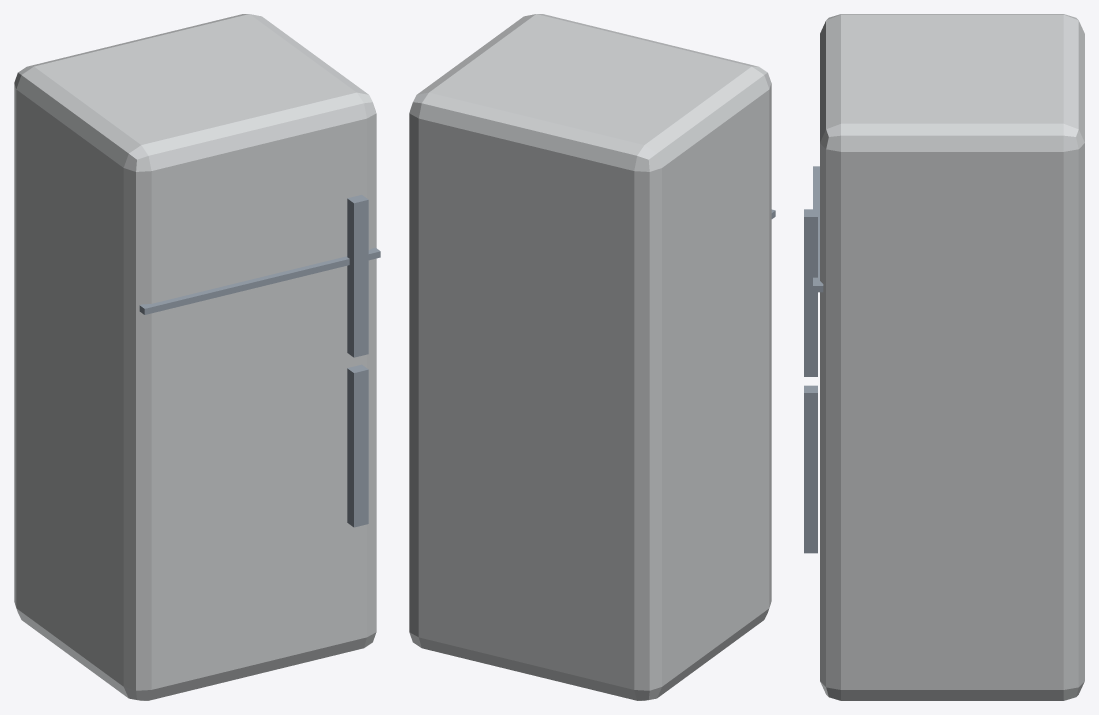
File: Kitchen_Fridge.fbx
The picture shows the model from 3 angles, left to right: view 1: azimuth 30°, elevation 25°; view 2: azimuth 150°, elevation 25°; view 3: azimuth 270°, elevation 25°; orthographic projection. The views are drawn at different scales.
Visible parts, largest first — view 1: Fridge; view 2: Fridge; view 3: Fridge.
Part boxes in pixels (x1,y1,x2,y2): Fridge: [14, 14, 380, 700]; Fridge: [409, 14, 775, 700]; Fridge: [804, 14, 1084, 700].
Bounding box in the file's own units: 0.85 × 1.8 × 0.795.
